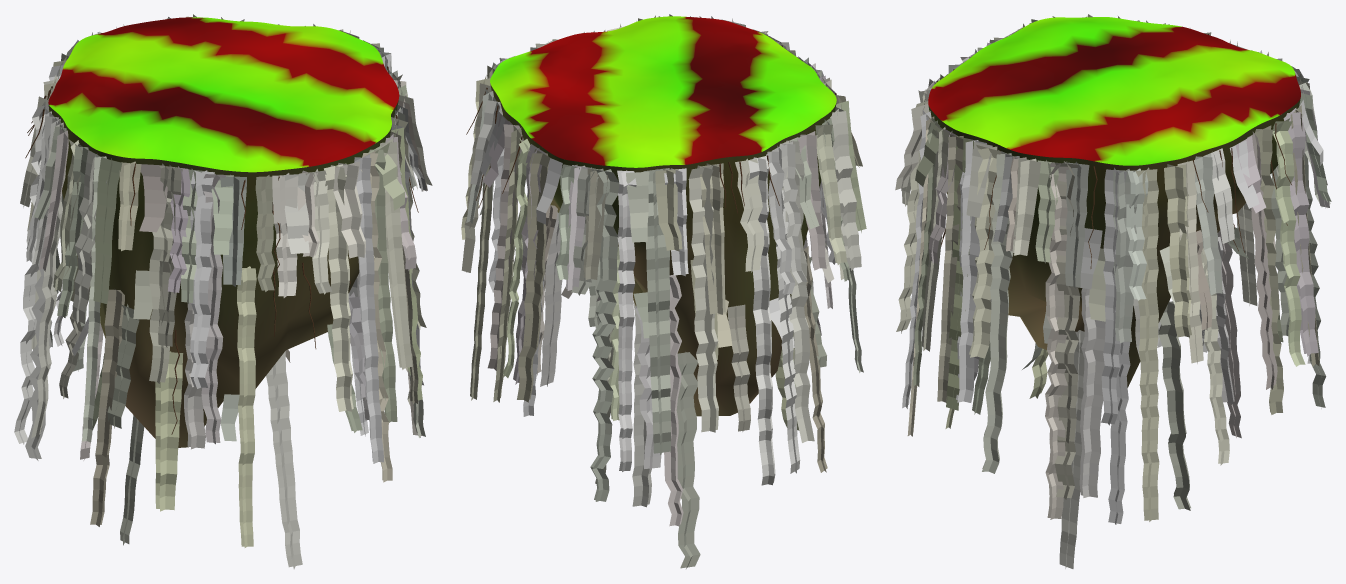
File: SM_H15_Floater05.fbx
The picture shows the model from 3 angles, left to right: view 1: azimuth 30°, elevation 25°; view 2: azimuth 150°, elevation 25°; view 3: azimuth 270°, elevation 25°; orthographic projection. The views are drawn at different scales.
Visible parts, largest first — view 1: SM_H15_Floater05_Ivy, SM_H15_Floater05; view 2: SM_H15_Floater05_Ivy, SM_H15_Floater05; view 3: SM_H15_Floater05_Ivy, SM_H15_Floater05.
Boxes of the visible parts, <box> form: SM_H15_Floater05_Ivy: <box>14,14,432,569</box>; SM_H15_Floater05: <box>48,17,399,447</box>; SM_H15_Floater05_Ivy: <box>461,14,866,568</box>; SM_H15_Floater05: <box>490,16,836,416</box>; SM_H15_Floater05_Ivy: <box>895,14,1331,568</box>; SM_H15_Floater05: <box>928,17,1300,387</box>.
Bounding box in the file's own units: 31.37 × 38.54 × 32.91.
